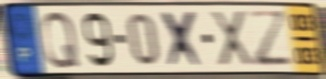0: (125, 12, 162, 68)
9: (82, 11, 115, 69)
Q: (40, 10, 82, 71)
X: (208, 9, 257, 70), (159, 9, 207, 70)
Z: (245, 8, 296, 70)
